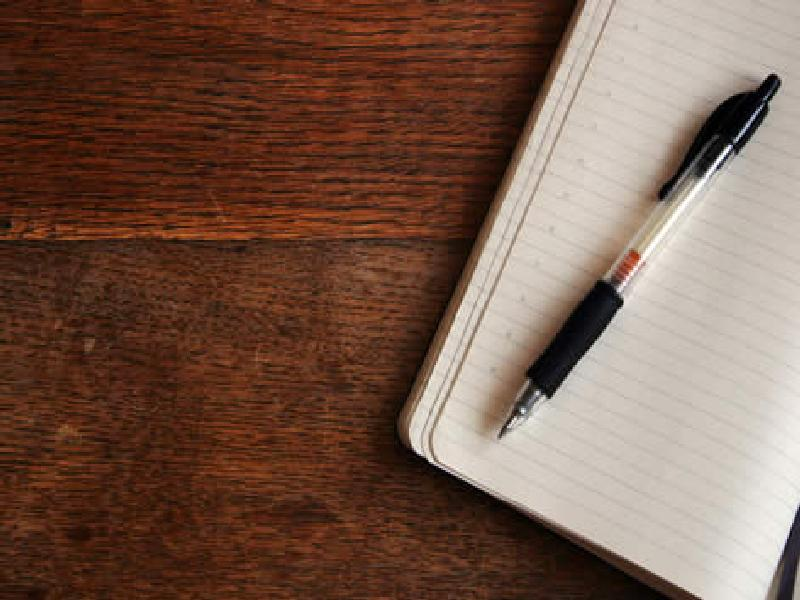pen: (475, 62, 790, 452)
